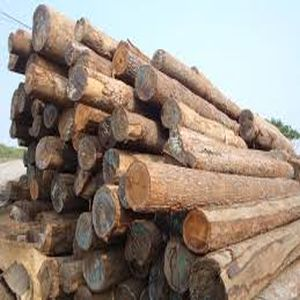log: (119, 218, 156, 276), (160, 237, 197, 293), (121, 159, 158, 214), (90, 184, 122, 243), (186, 258, 228, 300), (182, 208, 215, 254), (162, 127, 199, 166), (80, 250, 108, 293), (30, 3, 53, 53), (72, 211, 96, 253), (99, 148, 125, 185), (134, 63, 159, 101), (110, 108, 134, 147), (64, 64, 89, 100), (49, 173, 69, 215), (71, 169, 97, 201), (159, 97, 184, 130), (75, 136, 99, 169), (95, 116, 118, 149), (21, 62, 43, 95), (57, 106, 76, 143), (112, 41, 131, 76), (7, 88, 27, 119), (35, 135, 52, 170), (62, 41, 82, 66), (72, 17, 90, 41), (74, 104, 90, 131), (42, 102, 58, 128), (150, 49, 168, 72), (5, 50, 21, 75), (21, 142, 37, 166), (238, 121, 256, 141), (236, 109, 257, 126), (27, 115, 43, 137), (29, 178, 42, 202), (4, 31, 18, 53), (27, 99, 42, 118)
